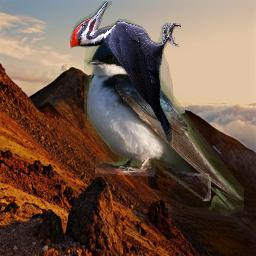Swallow: (84, 38, 244, 218)
Woodpecker: (70, 1, 181, 158)
